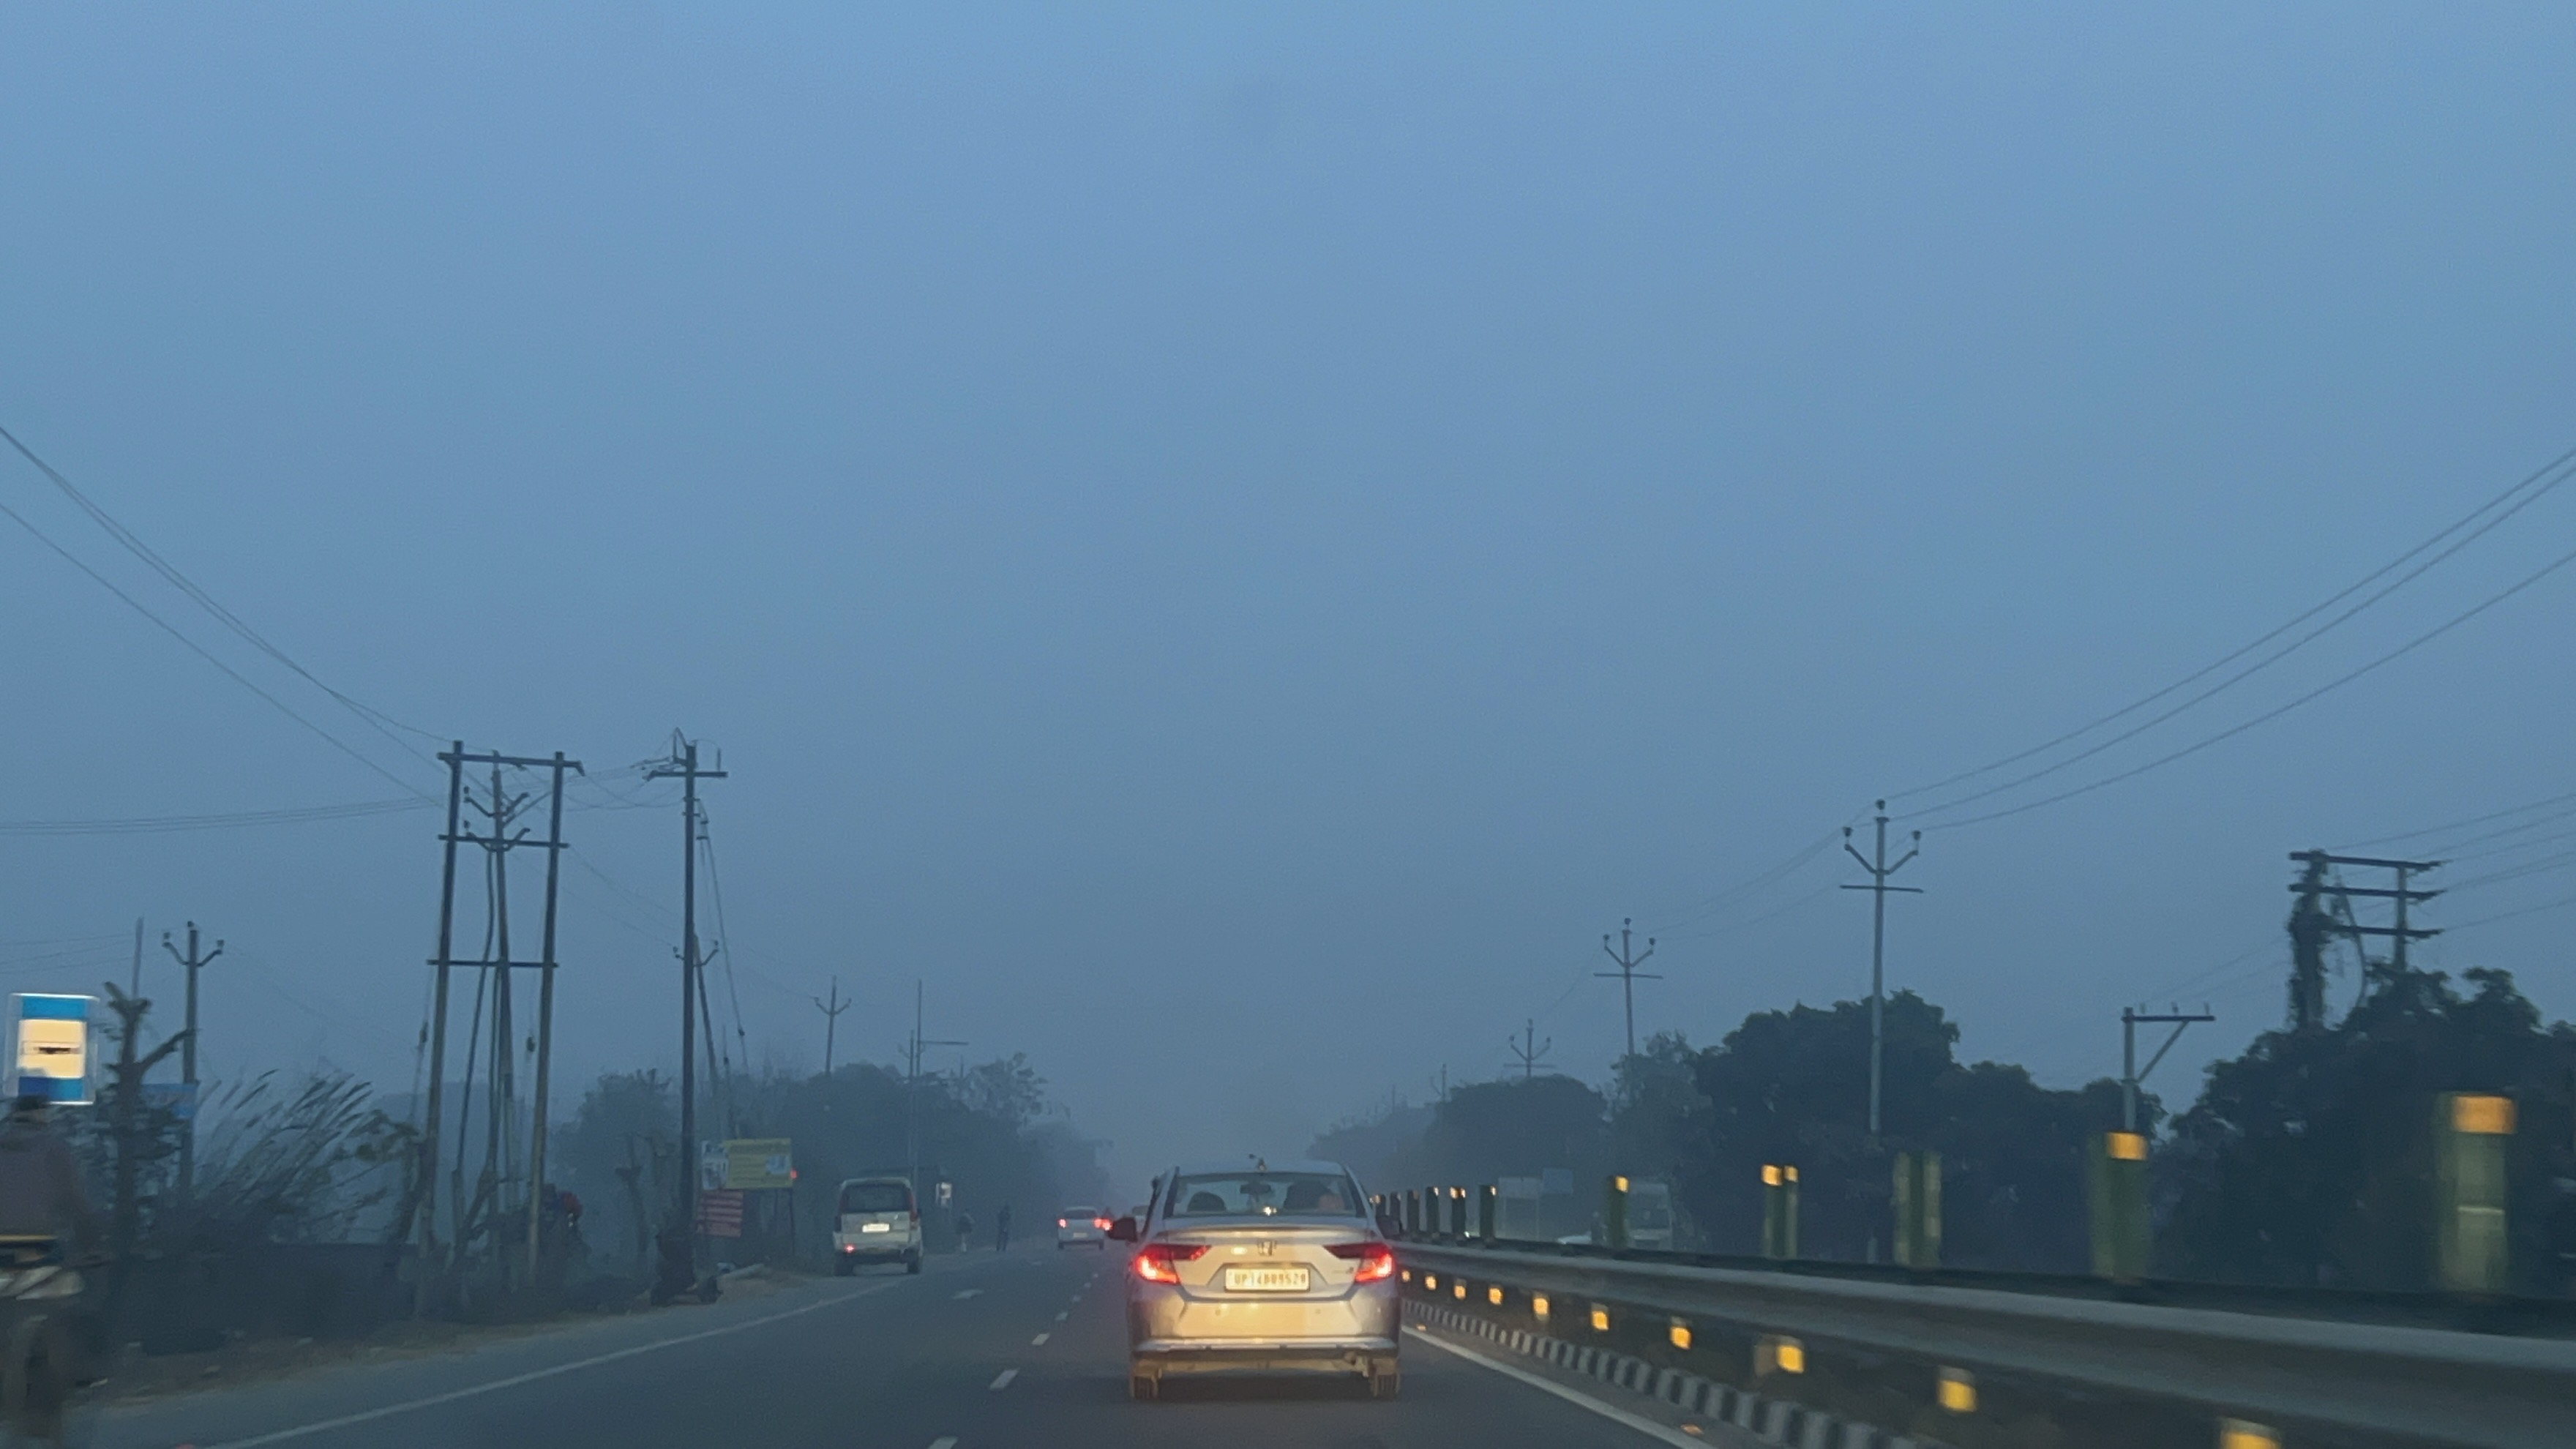Regulatory: (0, 980, 101, 1111)
